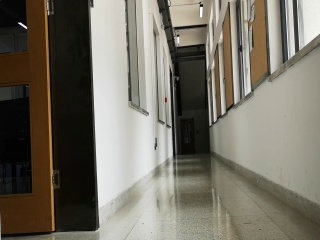room: (3, 3, 103, 240)
